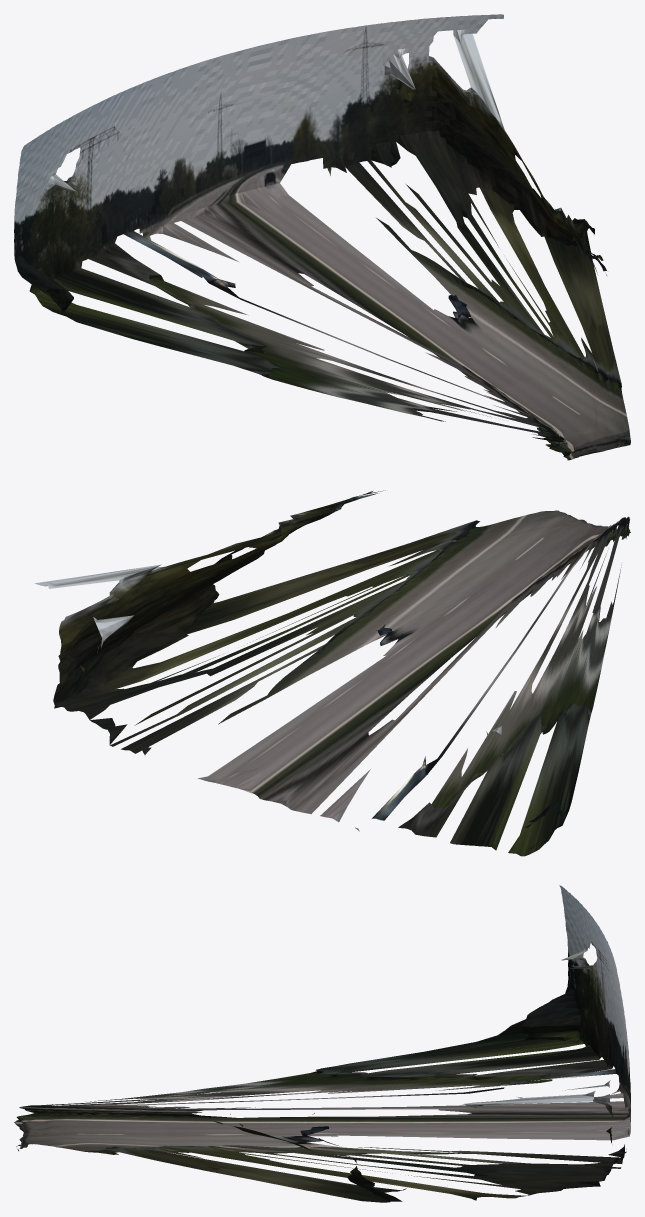
The picture shows the model from 3 angles, top to bottom: view 1: azimuth 30°, elevation 25°; view 2: azimuth 150°, elevation 25°; view 3: azimuth 270°, elevation 25°; orthographic projection. The views are drawn at different scales.
Parts seen in each view (by area): view 1: defaultobject; view 2: defaultobject; view 3: defaultobject.
Boxes of the visible parts, bbox=[...] form: defaultobject: bbox=[14, 14, 630, 460]; defaultobject: bbox=[34, 490, 630, 856]; defaultobject: bbox=[14, 885, 630, 1202].
Bounding box in the file's own units: 37.03 × 12.58 × 44.65.
Materials: 1 (1 with a texture image).
